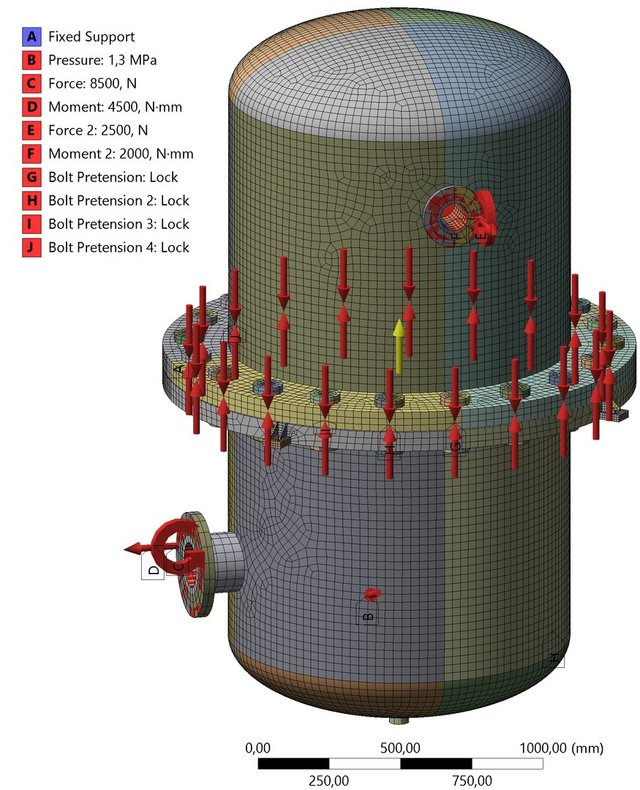nozzle: (113, 504, 259, 633)
